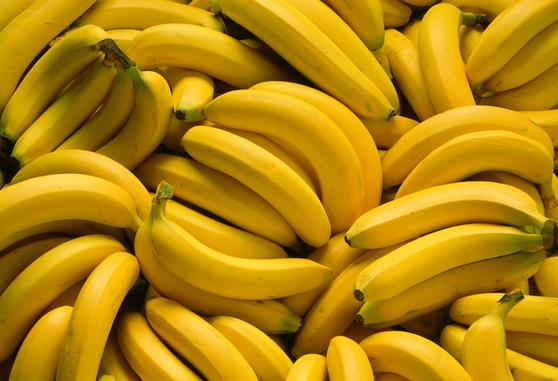banana: (212, 93, 372, 225), (175, 123, 336, 250), (147, 208, 338, 298), (348, 184, 554, 250), (389, 126, 556, 201), (357, 231, 547, 296), (59, 247, 141, 381)
